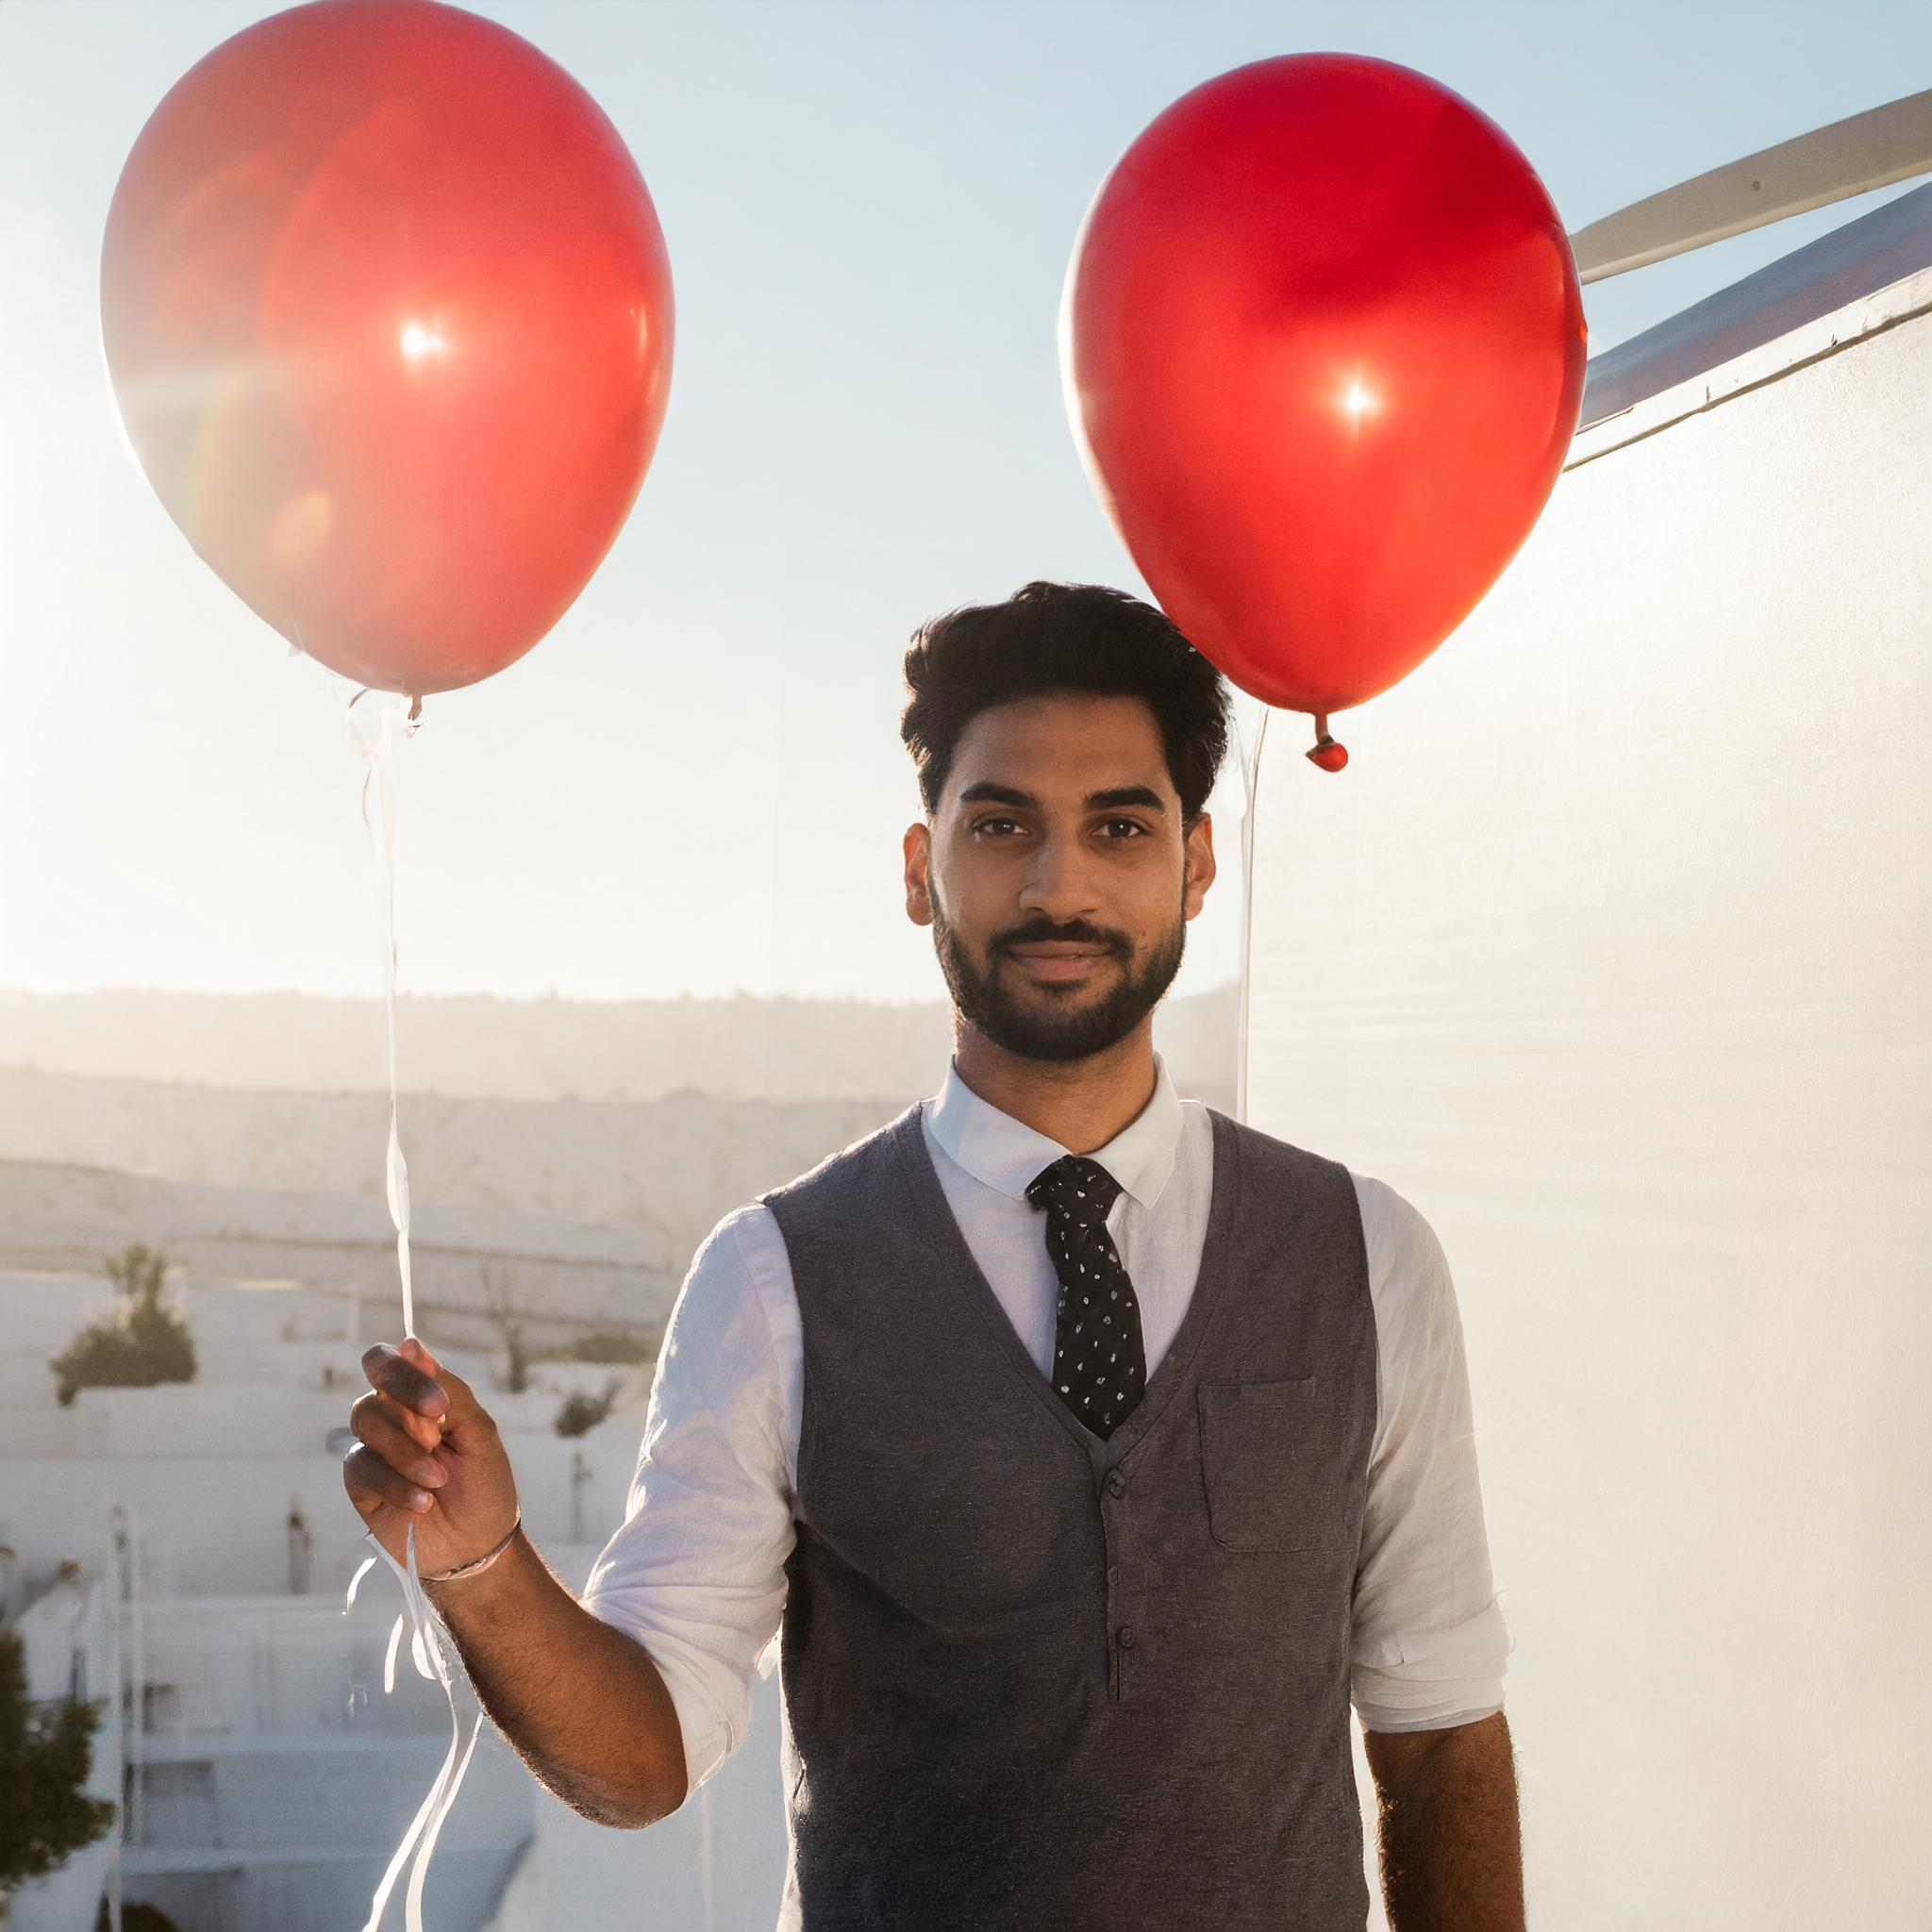red: (80, 0, 722, 732), (1019, 30, 1619, 794)
